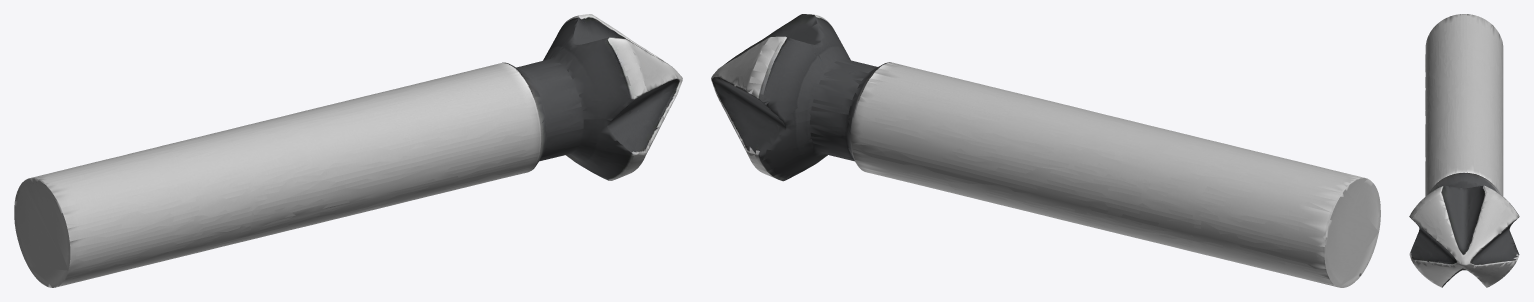
Rendered from tool_155.obj.
3 renders of one model, left to right at view 1: azimuth 30°, elevation 25°; view 2: azimuth 150°, elevation 25°; view 3: azimuth 270°, elevation 25°, orthographic. The views are drawn at different scales.
Visible parts, largest first — view 1: tool_155_tripo_normalized; view 2: tool_155_tripo_normalized; view 3: tool_155_tripo_normalized.
Part boxes in pixels (x1,y1,x2,y2): tool_155_tripo_normalized: (14, 14, 682, 287); tool_155_tripo_normalized: (711, 14, 1380, 287); tool_155_tripo_normalized: (1409, 14, 1519, 287).
Bounding box in the file's own units: 69.02 × 14.85 × 14.89.
Materials: 1 (1 with a texture image).
